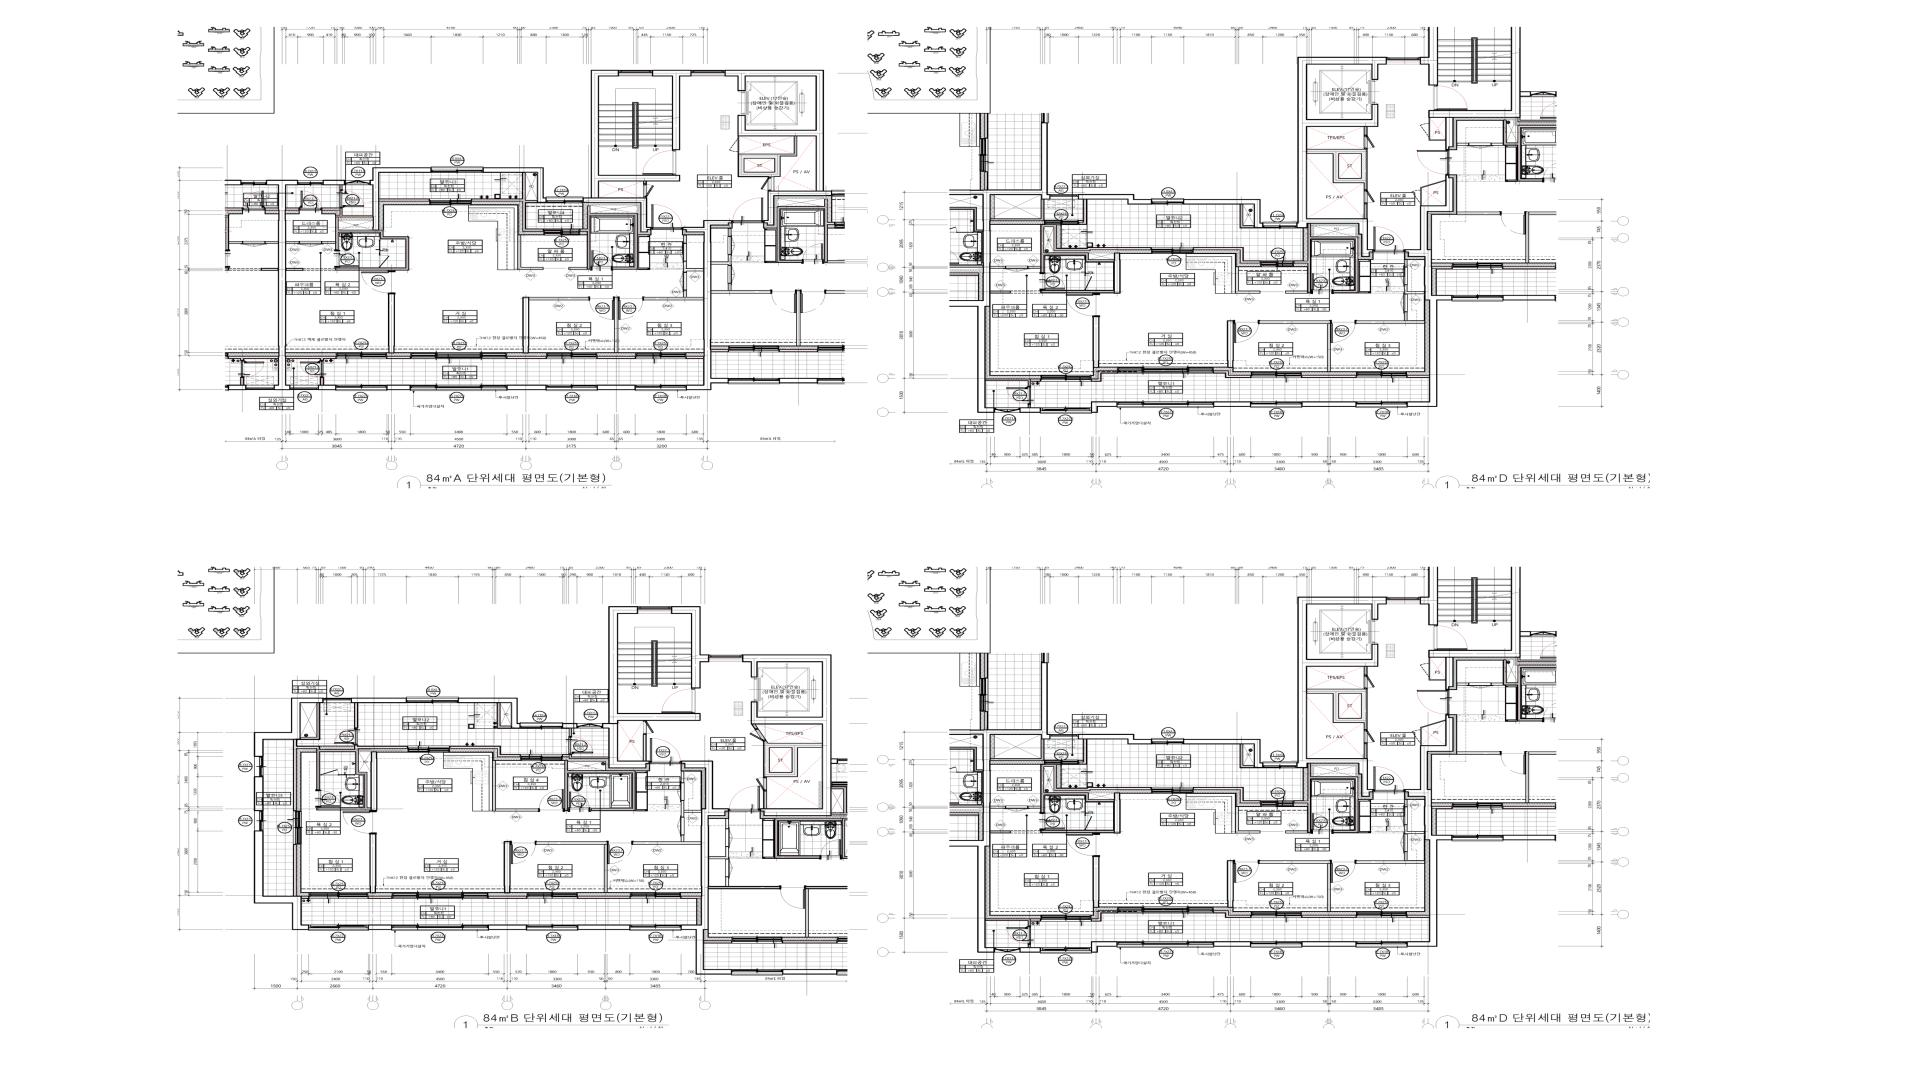door: (1433, 85, 1468, 110), (1433, 625, 1468, 650), (642, 150, 676, 175), (661, 689, 696, 713), (343, 810, 377, 834), (729, 786, 760, 812), (649, 738, 680, 764), (651, 204, 682, 230), (1067, 293, 1100, 317), (1067, 833, 1100, 857), (361, 271, 395, 294), (1374, 226, 1404, 252), (1374, 766, 1404, 792), (1234, 320, 1260, 344), (608, 841, 633, 865), (1331, 320, 1357, 343), (539, 789, 565, 812), (510, 841, 536, 864), (1331, 860, 1357, 883), (1234, 860, 1260, 883), (618, 297, 644, 320), (589, 297, 615, 320), (315, 789, 341, 808), (1006, 386, 1031, 405), (1006, 926, 1031, 945), (339, 189, 364, 208), (1311, 273, 1333, 294), (1311, 813, 1333, 834), (591, 250, 613, 271), (568, 792, 591, 812), (334, 250, 359, 268), (1039, 273, 1065, 290), (1039, 813, 1065, 830), (300, 190, 321, 211), (569, 736, 593, 754), (300, 361, 324, 377), (334, 729, 357, 745), (749, 728, 767, 745), (643, 182, 655, 198), (729, 136, 739, 154), (1364, 674, 1375, 689), (1364, 729, 1375, 744), (755, 778, 767, 791), (1364, 135, 1375, 149), (1364, 190, 1375, 204), (643, 721, 654, 734), (299, 241, 322, 247), (1006, 806, 1028, 812), (1006, 266, 1028, 272), (379, 255, 389, 267), (320, 769, 339, 775), (1085, 815, 1092, 830), (1085, 275, 1092, 290)
wall: (1297, 596, 1387, 797), (1297, 57, 1387, 257), (725, 70, 832, 226), (977, 730, 1050, 953), (977, 191, 1050, 413), (603, 606, 701, 768), (583, 70, 680, 232), (742, 654, 831, 816), (1428, 3, 1521, 150), (1428, 543, 1521, 690), (1404, 714, 1454, 947), (1404, 175, 1454, 407), (680, 761, 732, 975), (683, 220, 733, 390), (293, 740, 408, 811), (266, 180, 298, 390), (254, 831, 309, 930), (1040, 225, 1152, 273), (1040, 765, 1152, 813), (1294, 224, 1359, 294), (1294, 764, 1359, 833), (471, 173, 544, 232), (253, 698, 323, 757), (335, 217, 409, 271), (369, 168, 432, 231), (580, 205, 638, 270), (522, 297, 589, 353), (1260, 860, 1331, 912), (1260, 321, 1331, 372), (565, 760, 635, 811), (536, 842, 607, 892), (652, 70, 692, 150), (1420, 3, 1458, 85), (671, 606, 709, 688), (1420, 543, 1458, 625), (444, 752, 493, 812), (1184, 199, 1264, 228), (1184, 739, 1264, 768), (483, 167, 547, 203), (493, 761, 538, 811), (763, 740, 822, 778), (458, 698, 521, 729), (991, 739, 1045, 761), (991, 200, 1045, 221), (1193, 787, 1261, 803), (1193, 247, 1261, 263), (517, 235, 543, 270), (1356, 851, 1424, 864), (1356, 311, 1424, 324), (1078, 194, 1152, 205), (1078, 734, 1152, 745), (449, 746, 521, 757), (1235, 806, 1261, 833), (1235, 267, 1261, 294), (301, 704, 320, 740), (633, 835, 701, 845), (644, 291, 703, 300), (770, 748, 792, 772), (1358, 259, 1371, 294), (1358, 799, 1371, 833), (388, 294, 395, 353), (369, 834, 376, 893), (1092, 317, 1100, 368), (1092, 857, 1100, 908), (370, 752, 377, 810), (497, 703, 511, 729), (503, 841, 510, 893), (986, 379, 1031, 387), (986, 919, 1031, 927), (681, 801, 701, 818), (1227, 860, 1234, 908), (1301, 941, 1357, 947), (1227, 320, 1234, 368), (1091, 401, 1118, 413), (1091, 910, 1118, 922), (1091, 941, 1118, 953), (336, 208, 372, 217), (1240, 745, 1254, 768), (1240, 205, 1254, 228), (1213, 910, 1252, 918), (254, 777, 263, 811), (1091, 371, 1118, 382), (1114, 253, 1121, 294), (1114, 793, 1121, 834), (1301, 402, 1357, 407), (351, 698, 407, 703), (1213, 371, 1252, 378), (577, 925, 631, 930), (286, 356, 336, 361), (683, 261, 703, 273), (1079, 199, 1088, 225), (1079, 739, 1088, 765), (562, 754, 608, 759), (1213, 941, 1251, 947), (614, 297, 618, 353), (1040, 290, 1114, 293), (1040, 830, 1114, 833), (293, 844, 297, 896), (506, 385, 546, 390), (597, 385, 636, 390), (488, 925, 527, 930), (1213, 402, 1251, 407), (1404, 825, 1424, 834), (1404, 285, 1424, 294), (1301, 375, 1357, 378), (1301, 915, 1357, 918), (577, 896, 631, 899), (379, 199, 430, 202), (1019, 947, 1041, 953), (386, 385, 411, 390), (506, 356, 547, 359), (368, 925, 392, 930), (597, 356, 636, 359), (488, 896, 527, 899), (1019, 408, 1041, 413), (323, 180, 345, 185), (643, 734, 647, 760), (354, 703, 358, 728), (317, 385, 336, 390), (562, 723, 577, 729), (386, 356, 411, 359), (367, 896, 392, 899), (763, 791, 767, 808), (1285, 831, 1307, 834), (1407, 915, 1429, 918), (1285, 291, 1307, 294), (1407, 375, 1429, 378), (991, 291, 1011, 294), (681, 896, 701, 899), (321, 208, 340, 211), (568, 267, 587, 270), (685, 356, 703, 359), (286, 268, 303, 271), (991, 266, 1006, 269), (991, 806, 1006, 809), (991, 831, 1011, 833), (286, 241, 299, 244), (322, 241, 335, 244), (1028, 266, 1040, 269), (681, 771, 684, 783), (1028, 806, 1040, 809), (751, 725, 758, 730), (320, 377, 324, 385), (683, 235, 687, 243), (1404, 799, 1408, 807), (1404, 259, 1408, 267), (1031, 379, 1041, 382), (1031, 919, 1041, 922), (286, 208, 299, 210), (569, 729, 572, 736), (302, 896, 309, 899), (339, 185, 342, 189), (1028, 405, 1031, 408), (1079, 220, 1083, 222), (1079, 760, 1083, 762), (1028, 945, 1031, 947)
window: (1118, 907, 1213, 914), (1118, 367, 1213, 374), (1118, 941, 1213, 948), (393, 892, 487, 899), (392, 925, 488, 931), (411, 385, 506, 391), (411, 353, 506, 359), (1118, 402, 1213, 408), (309, 892, 367, 899), (309, 925, 368, 931), (1041, 915, 1091, 922), (407, 697, 457, 704), (1357, 941, 1407, 948), (1041, 375, 1091, 382), (631, 892, 680, 899), (1357, 911, 1406, 918), (1252, 911, 1301, 918), (337, 352, 386, 359), (547, 352, 596, 359), (636, 352, 685, 359), (1252, 371, 1301, 378), (1251, 942, 1302, 948), (546, 385, 597, 391), (432, 167, 483, 173), (1251, 402, 1302, 408), (1041, 948, 1091, 954), (631, 925, 681, 931), (527, 925, 577, 931), (527, 893, 577, 899), (336, 385, 386, 391), (636, 385, 686, 391), (1357, 402, 1407, 408), (1041, 408, 1091, 414), (293, 811, 302, 844), (1357, 372, 1406, 378), (521, 722, 562, 729), (521, 754, 562, 761), (1152, 787, 1193, 794), (638, 606, 671, 614), (408, 746, 449, 752), (430, 199, 471, 205), (1152, 248, 1193, 254), (709, 655, 742, 662), (1458, 543, 1491, 550), (1261, 800, 1294, 807), (1387, 597, 1420, 604), (1458, 3, 1491, 10), (1387, 57, 1420, 64), (544, 229, 579, 235), (547, 197, 582, 203), (1264, 762, 1297, 768), (1264, 222, 1297, 228), (1261, 261, 1294, 267), (254, 811, 263, 831), (1153, 738, 1183, 744), (1153, 198, 1183, 204), (254, 757, 263, 776), (1045, 760, 1079, 765), (1045, 220, 1079, 225), (578, 723, 602, 729), (1051, 734, 1078, 739), (324, 698, 351, 703), (291, 385, 317, 390), (298, 180, 323, 185), (995, 948, 1019, 953), (995, 408, 1019, 413), (346, 180, 369, 185), (1051, 195, 1078, 199)
